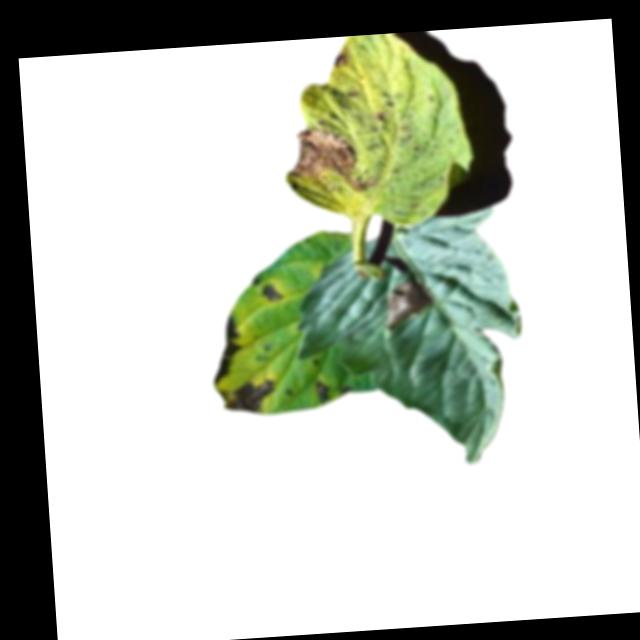Early_blight: (282, 124, 376, 198), (379, 276, 434, 330), (207, 315, 244, 386), (214, 378, 278, 418), (259, 285, 288, 306), (330, 48, 350, 74), (313, 379, 332, 405)
